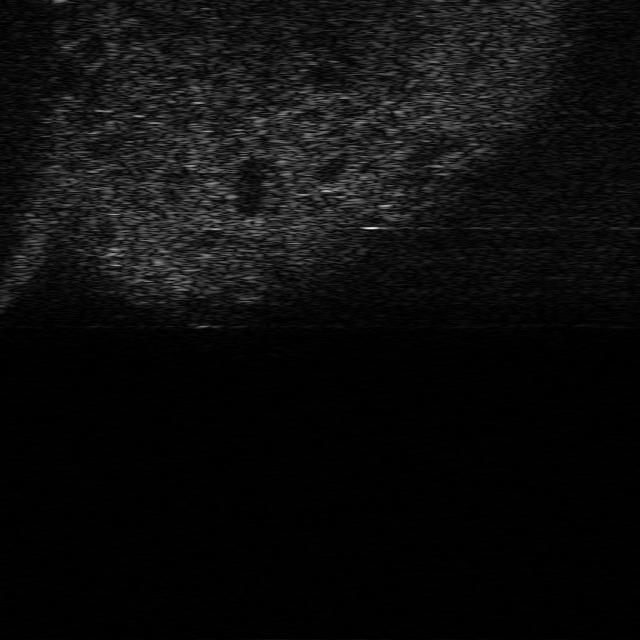ball: (228, 276, 266, 302)
